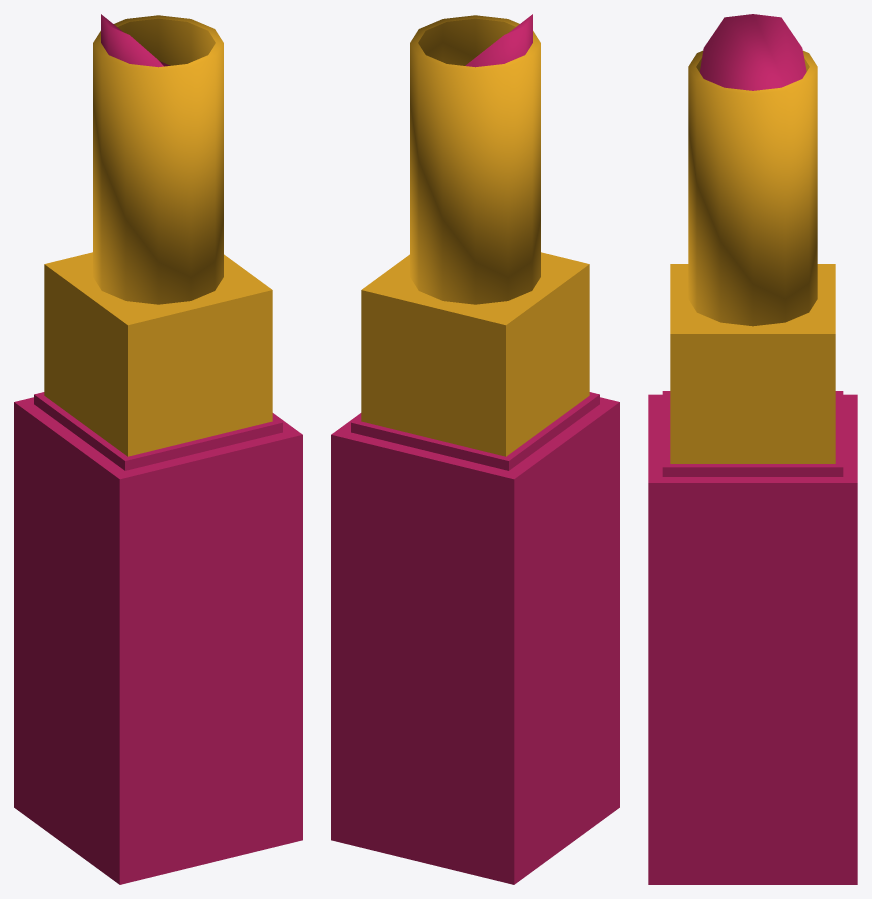
File: TuboBatom.fbx
3 renders of one model, left to right at view 1: azimuth 30°, elevation 25°; view 2: azimuth 150°, elevation 25°; view 3: azimuth 270°, elevation 25°, orthographic.
Visible parts, largest first — view 1: BatomVazio; view 2: BatomVazio; view 3: BatomVazio.
Boxes of the visible parts, left/top/right/bottom form: BatomVazio: left=14, top=14, right=302, bottom=884; BatomVazio: left=331, top=14, right=619, bottom=884; BatomVazio: left=648, top=14, right=857, bottom=884.
Bounding box in the file's own units: 200 × 846 × 200.
